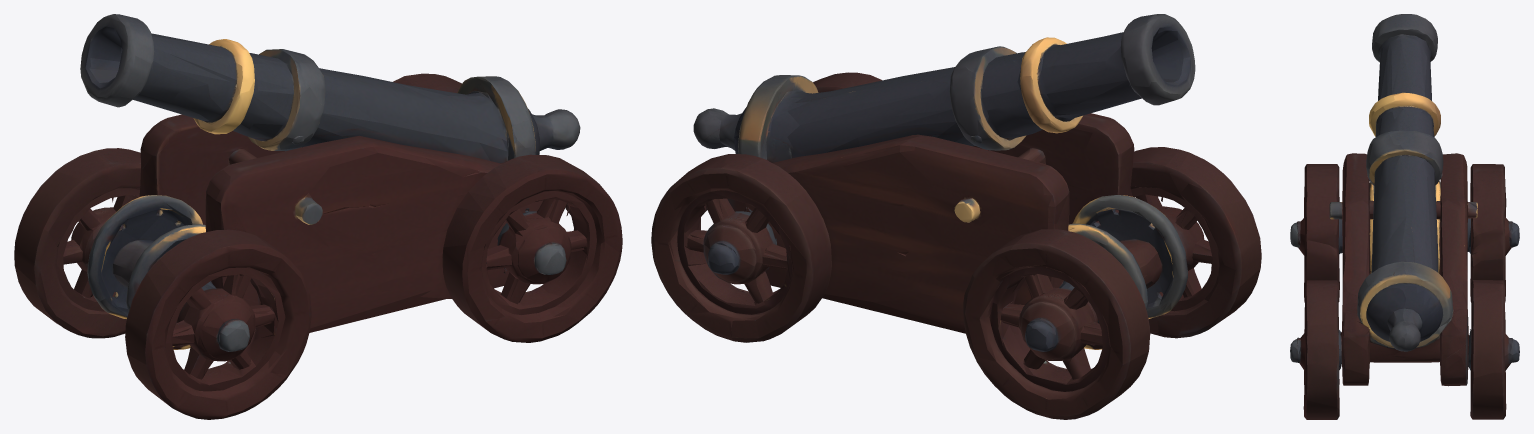
The model's file is canon_pirata.glb.
The picture shows the model from 3 angles, left to right: view 1: azimuth 30°, elevation 25°; view 2: azimuth 150°, elevation 25°; view 3: azimuth 270°, elevation 25°; orthographic projection. The views are drawn at different scales.
Visible parts, largest first — view 1: mesh_node; view 2: mesh_node; view 3: mesh_node.
Part boxes in pixels (x1=…): mesh_node: x1=14, y1=14, x2=622, y2=419; mesh_node: x1=651, y1=14, x2=1261, y2=419; mesh_node: x1=1290, y1=14, x2=1519, y2=419.
Bounding box in the file's own units: 1.9 × 1.32 × 1.02.
Materials: 1 (1 with a texture image).
